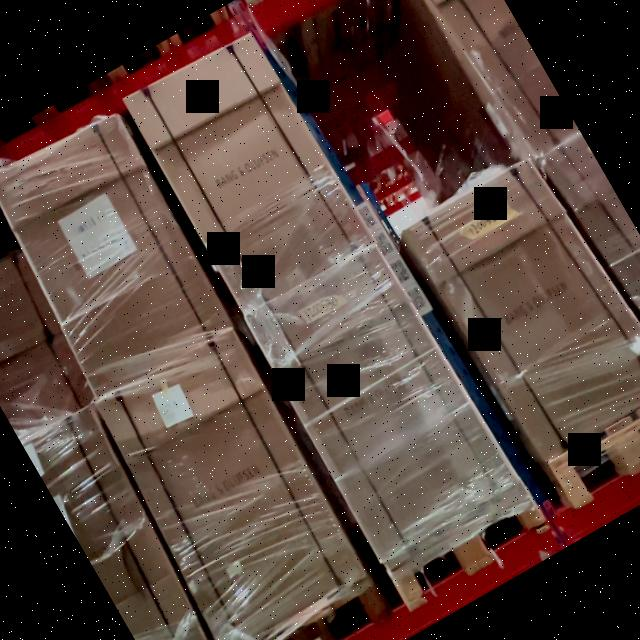box: (245, 243, 523, 561), (96, 334, 367, 640), (404, 159, 640, 463), (124, 33, 375, 312), (0, 114, 233, 392)
